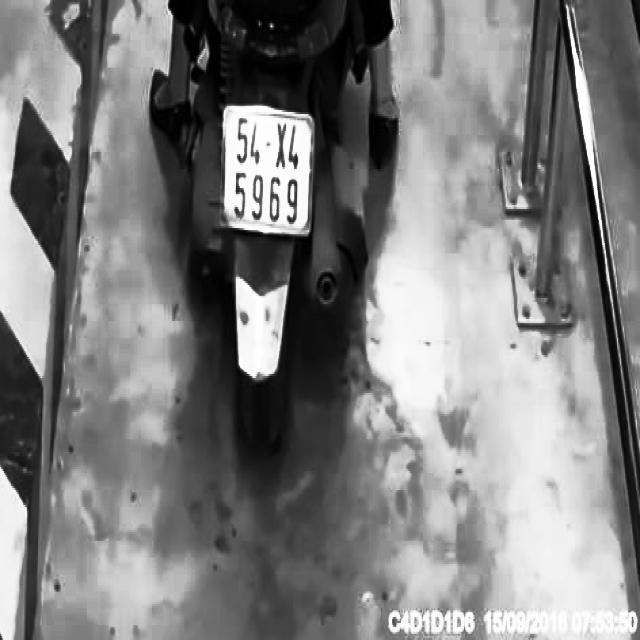license_plate: (215, 104, 321, 245)
